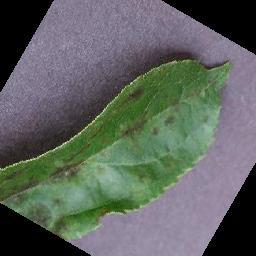apple healthy: (0, 54, 233, 242)
